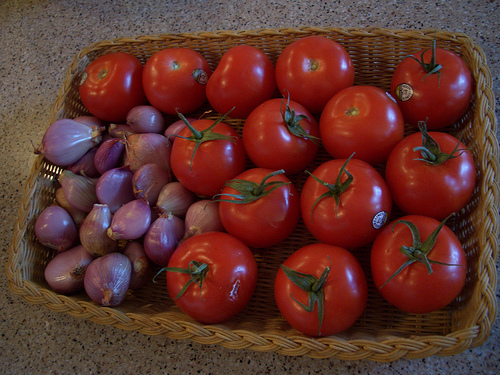onion: (41, 120, 100, 167), (84, 251, 131, 307), (41, 244, 90, 293), (185, 197, 218, 238)
